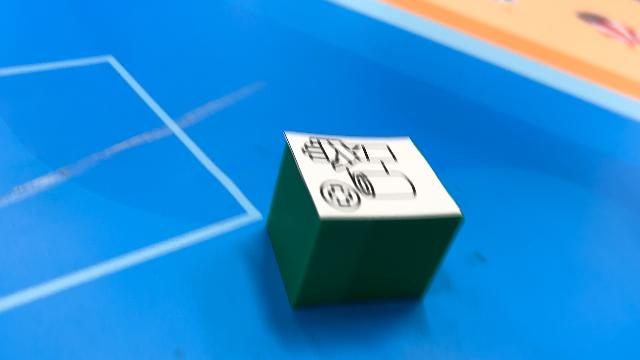bandage: (265, 130, 465, 310)
